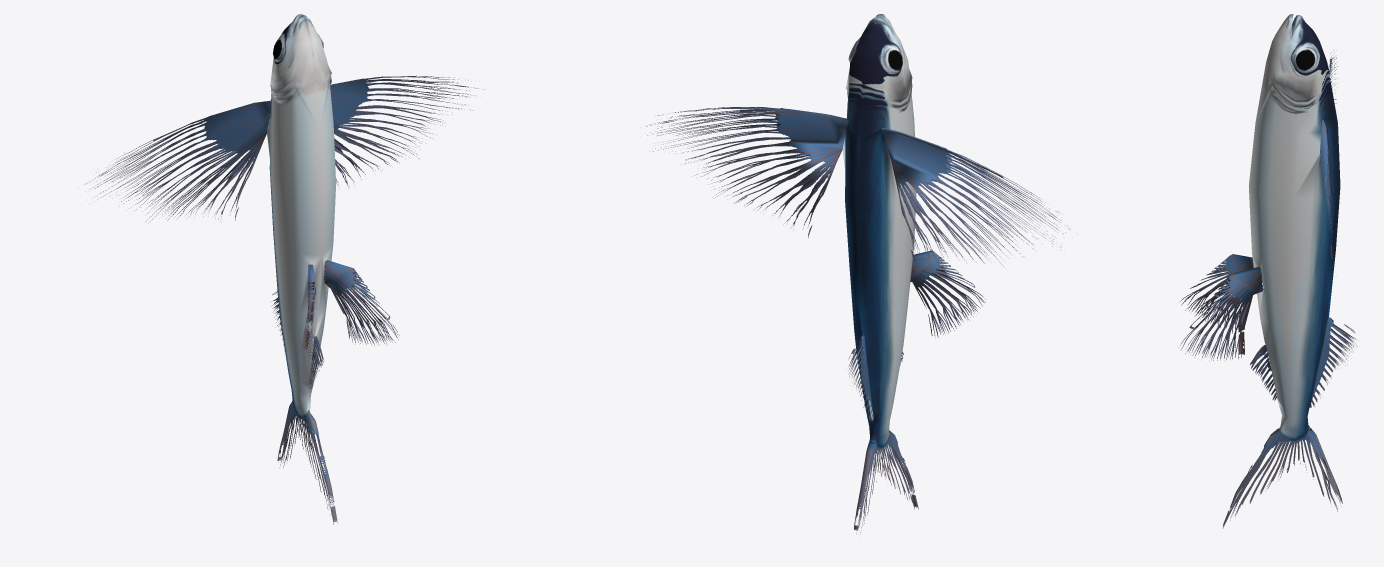
The model's file is FlyingFishBlendShapes.fbx.
The picture shows the model from 3 angles, left to right: view 1: azimuth 30°, elevation 25°; view 2: azimuth 150°, elevation 25°; view 3: azimuth 270°, elevation 25°; orthographic projection. The views are drawn at different scales.
Parts seen in each view (by area): view 1: FlyingFishModelAnim.001; view 2: FlyingFishModelAnim.001; view 3: FlyingFishModelAnim.001.
Boxes of the visible parts, left/top/right/bottom form: FlyingFishModelAnim.001: left=86, top=14, right=485, bottom=524; FlyingFishModelAnim.001: left=647, top=14, right=1069, bottom=534; FlyingFishModelAnim.001: left=1180, top=14, right=1357, bottom=528.
Bounding box in the file's own units: 435 × 401 × 137.
